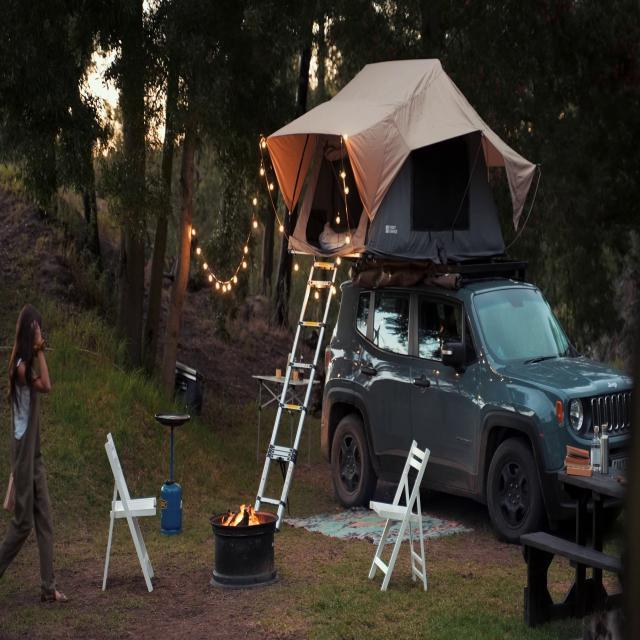Fire: (226, 499, 260, 532)
